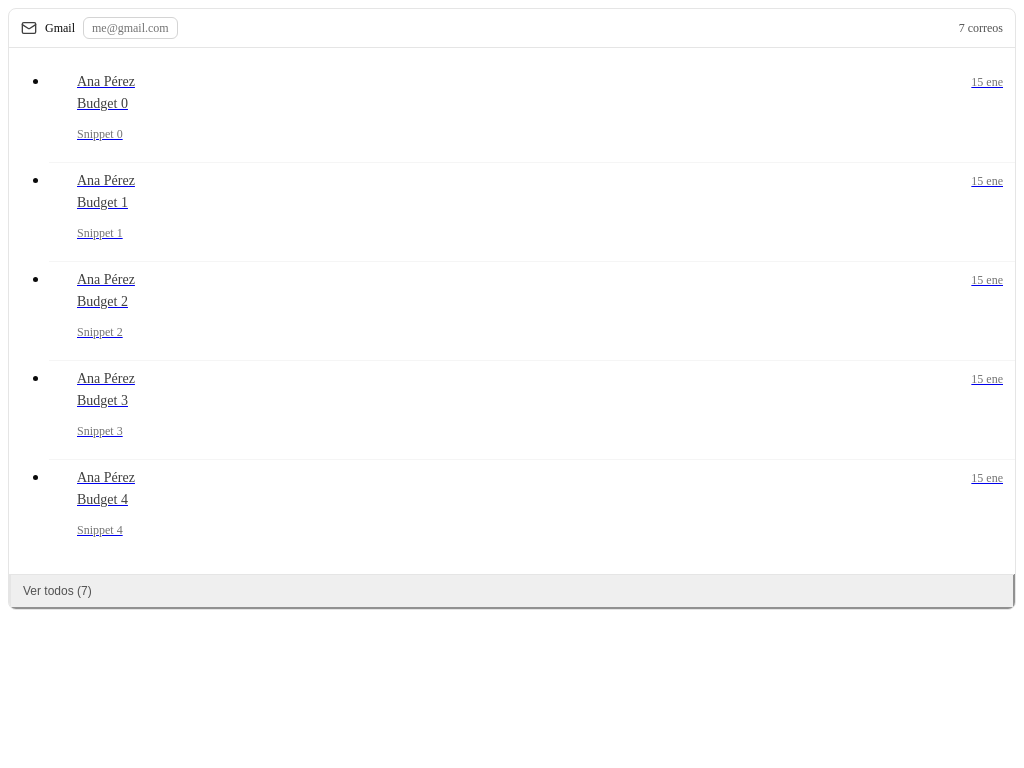
Test: ToolResultPersonalConnectorCard › collapses long result lists behind a show-all toggle
Expected: the text "Budget 6" is not shown
What coordinates should you click on to do the following:
click the button "Ver todos (7)"
I would click on:
 (57, 591)
Its box is [9,574,1015,609].
(page scrolled)
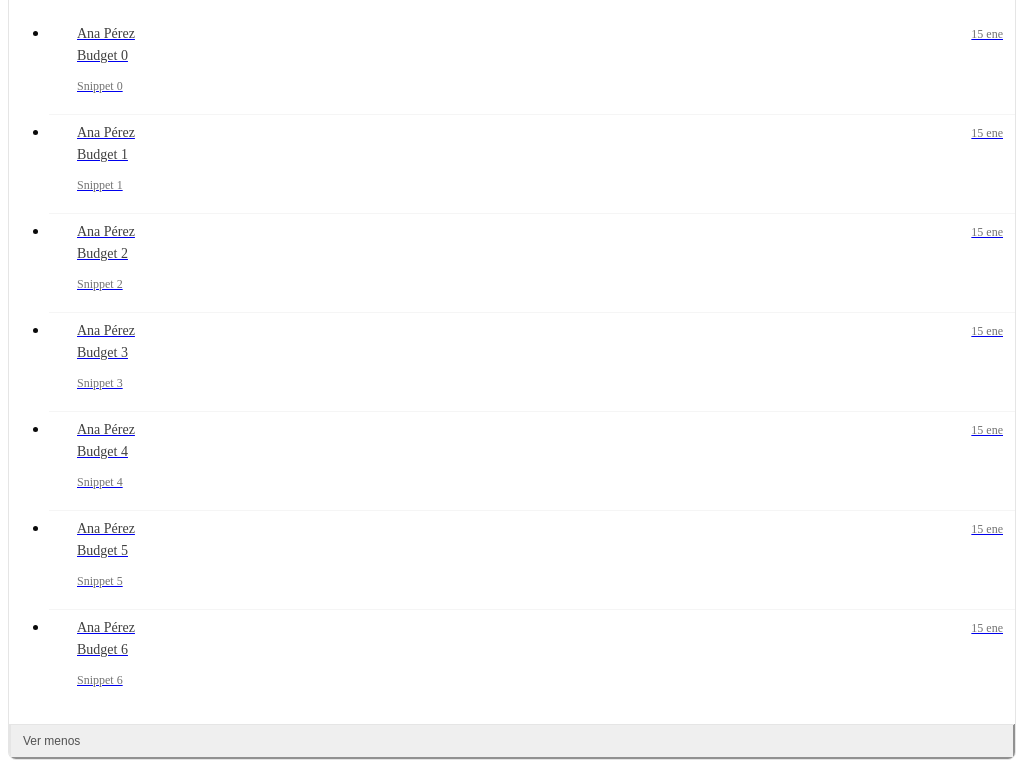
Expected: the text "Budget 6" is shown, [77,642,128,657]
Expected: the button "Ver menos" is shown, [9,724,1015,759]
